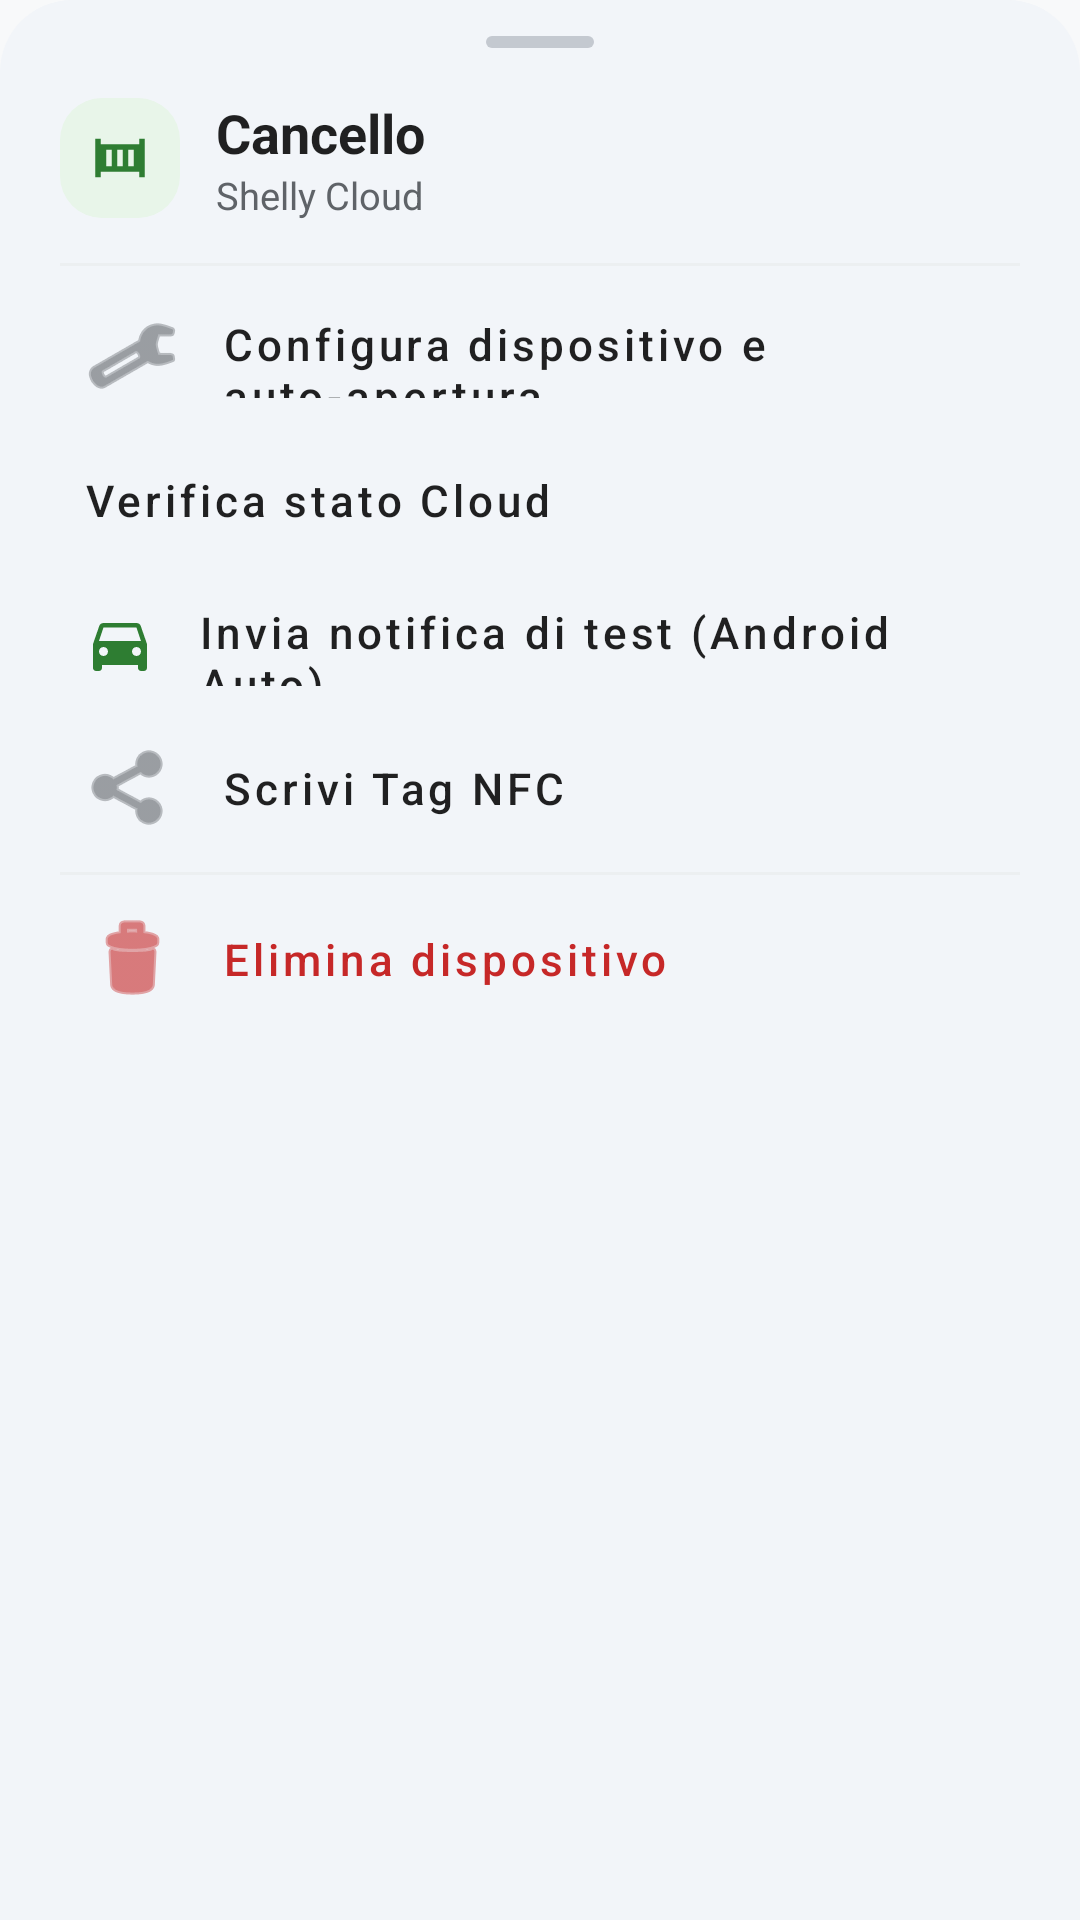

Screen size 1080*1920. Icon name, then its center in pixels as (x=x, y=y):
gate: (x=120, y=158)
